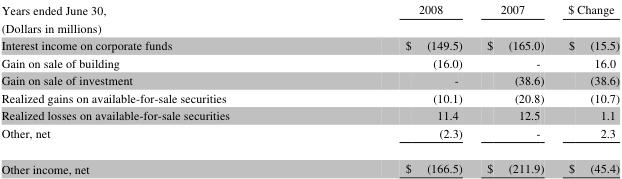table: (0, 0, 618, 176)
table column: (0, 0, 316, 176), (316, 0, 474, 176), (474, 0, 555, 176), (555, 0, 618, 176)
table column header: (0, 0, 618, 18)
table projected row header: (0, 18, 618, 35)
table row: (0, 149, 618, 176), (0, 123, 618, 149), (0, 0, 618, 18), (0, 35, 618, 53), (0, 70, 618, 88), (0, 105, 618, 123), (0, 18, 618, 35), (0, 53, 618, 70), (0, 88, 618, 105)
